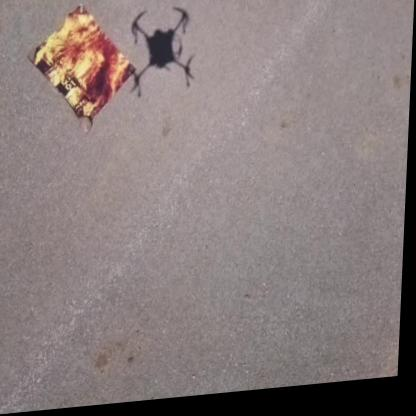fire-poster: (26, 0, 141, 140)
